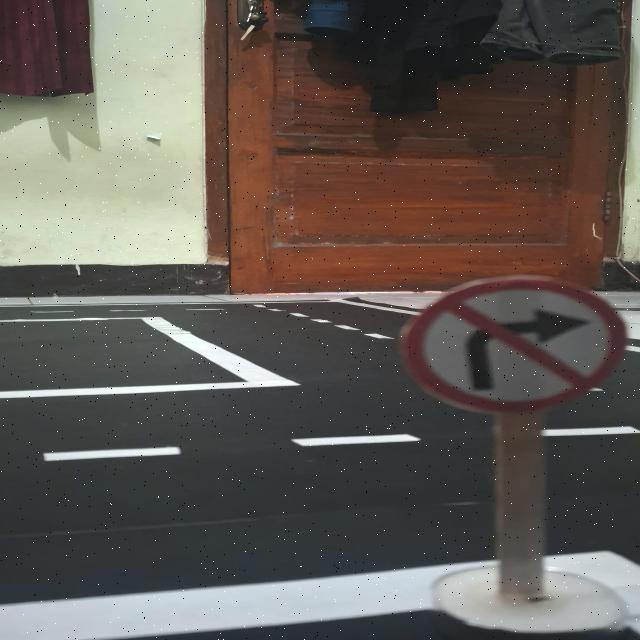Dilarang Belok Kanan: (404, 277, 630, 412)
